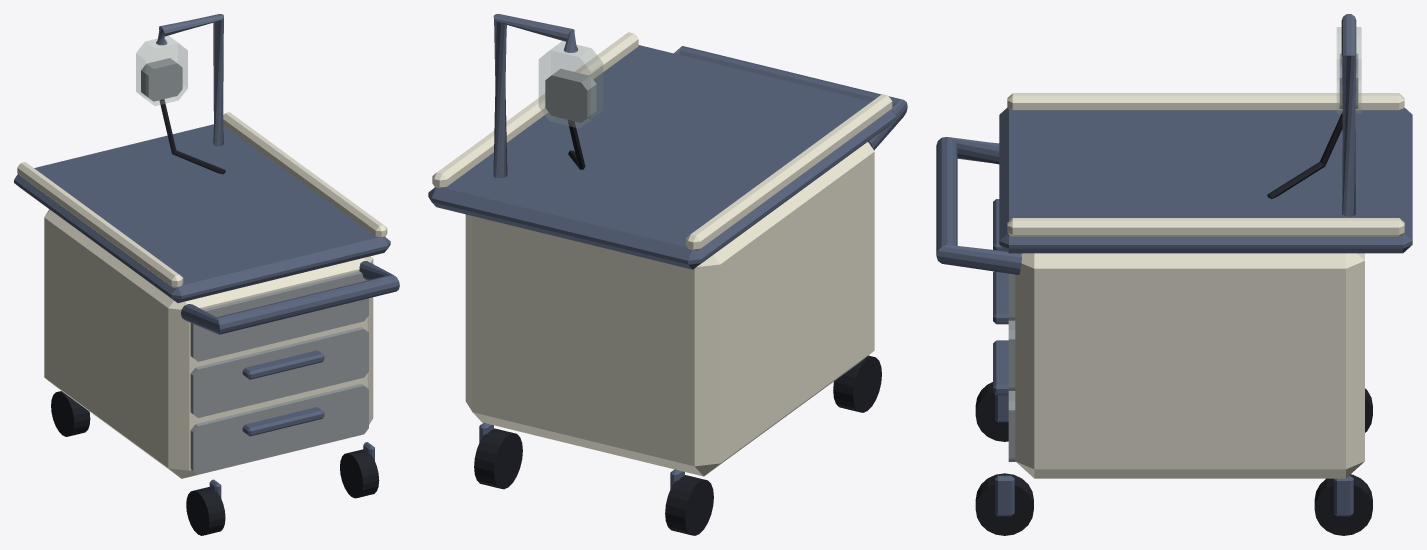
Rendered from bw_med_cart.glb.
3 views of the same model, side by side, from view 1: azimuth 30°, elevation 25°; view 2: azimuth 150°, elevation 25°; view 3: azimuth 270°, elevation 25° (orthographic). The views are drawn at different scales.
Visible parts, largest first — view 1: fork, raised_edge, drawer, drip_line, infusion_bag, iv_hook; view 2: raised_edge, fork, drip_line, infusion_bag, iv_hook, drawer; view 3: raised_edge, fork, drip_line, iv_hook, drawer, infusion_bag.
Boxes of the visible parts, x1,y1,x2,y2 form: fork: (14,124,399,497); raised_edge: (17,112,387,478); drawer: (141,58,368,474); drip_line: (51,99,379,535); infusion_bag: (136,36,187,105); iv_hook: (156,14,223,146); raised_edge: (432,32,892,476); fork: (428,45,907,488); drip_line: (474,120,881,535); infusion_bag: (539,41,602,128); iv_hook: (493,14,577,178); drawer: (545,68,596,122); raised_edge: (1007,93,1404,478); fork: (936,108,1412,516); drip_line: (975,112,1372,535); iv_hook: (1341,14,1356,216); drawer: (1008,53,1358,461); infusion_bag: (1337,27,1361,113).
Bounding box in the file's own units: 0.6 × 0.9991 × 0.8992.
